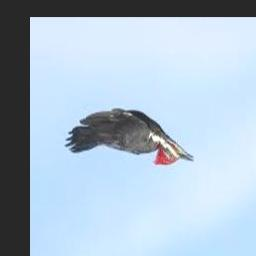Woodpecker: (63, 110, 193, 166)
